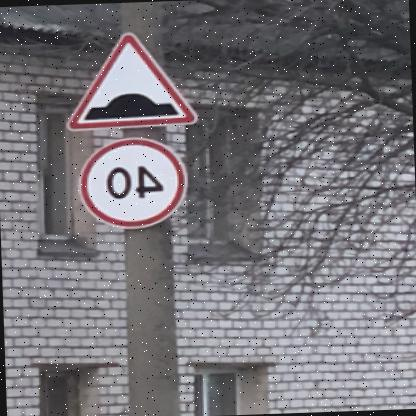speedlimit: (81, 134, 188, 228)
